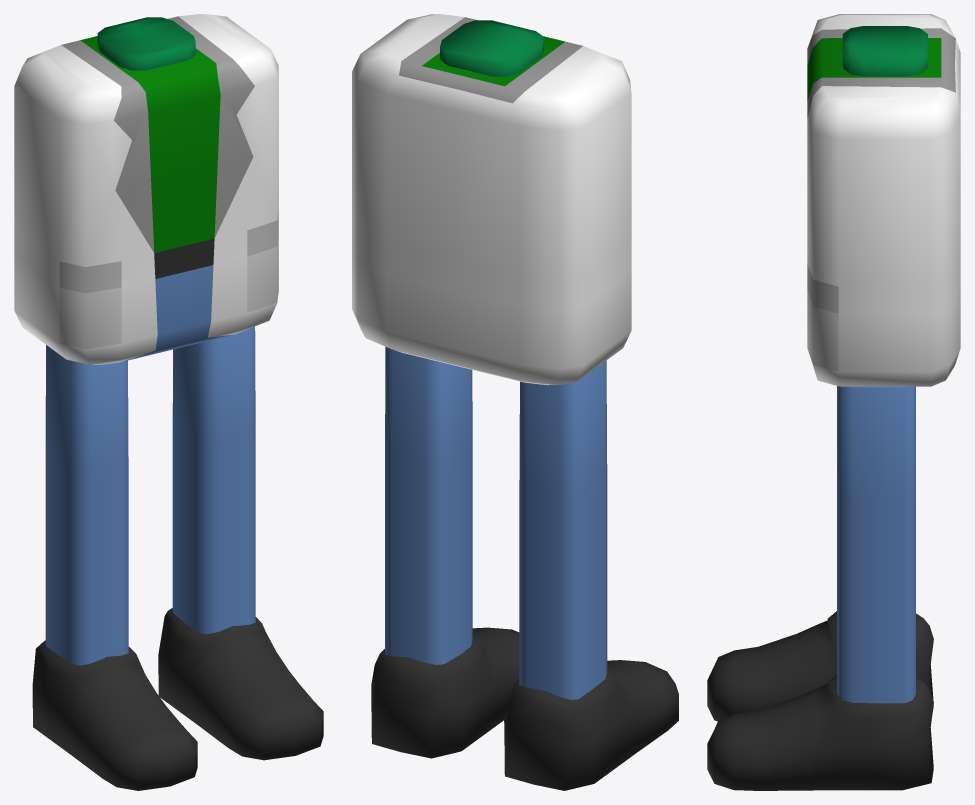
Rendered from NPC_Body13.gltf.
3 views of the same model, side by side, from view 1: azimuth 30°, elevation 25°; view 2: azimuth 150°, elevation 25°; view 3: azimuth 270°, elevation 25° (orthographic). The views are drawn at different scales.
Parts seen in each view (by area): view 1: NPC_Body.013; view 2: NPC_Body.013; view 3: NPC_Body.013.
Boxes of the visible parts, box(x1,y1,x2,y2) form: NPC_Body.013: box(14, 14, 323, 790); NPC_Body.013: box(352, 14, 678, 790); NPC_Body.013: box(707, 14, 960, 790).
Size of the model in its own units: 0.5348 by 1.57 by 0.518.
1 material, 1 textured.
